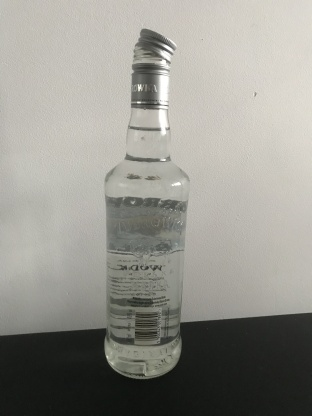nakretka: (129, 26, 177, 110)
